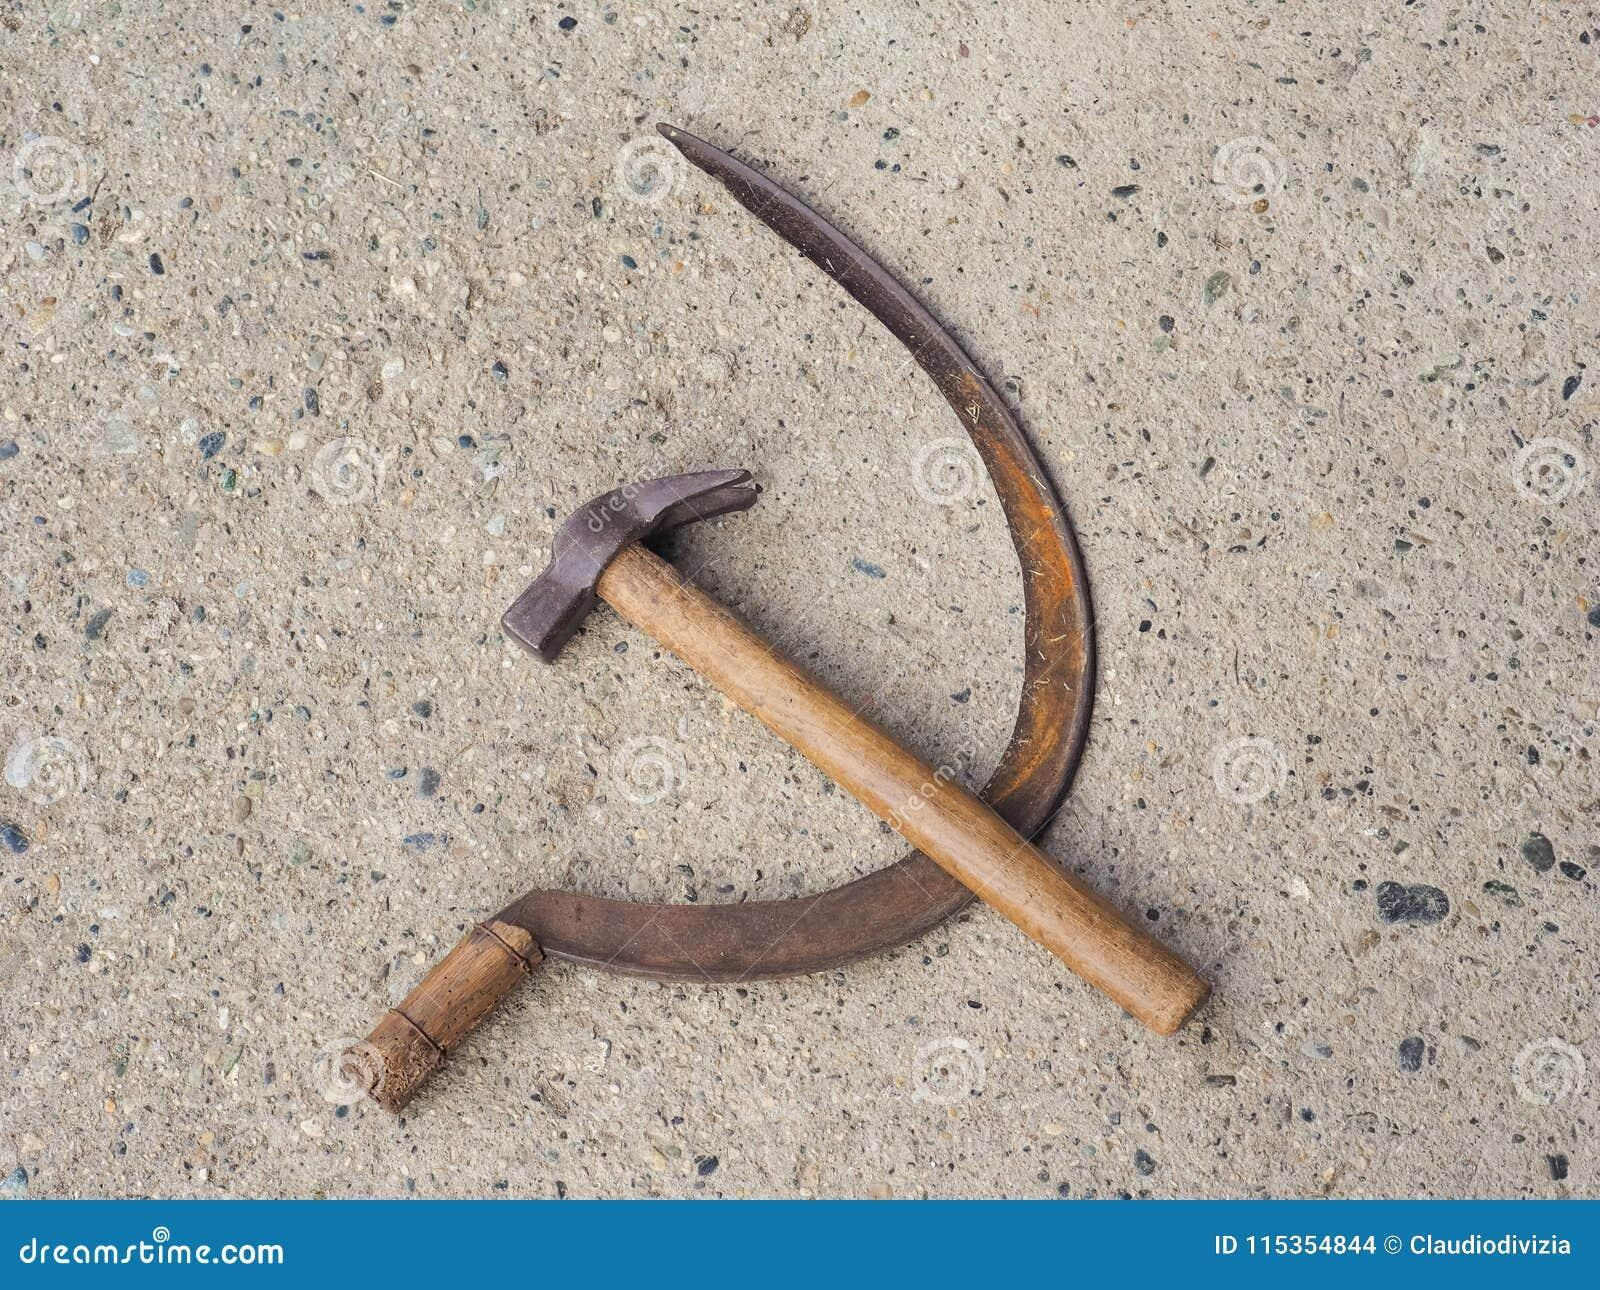foice: (297, 124, 1100, 1086)
